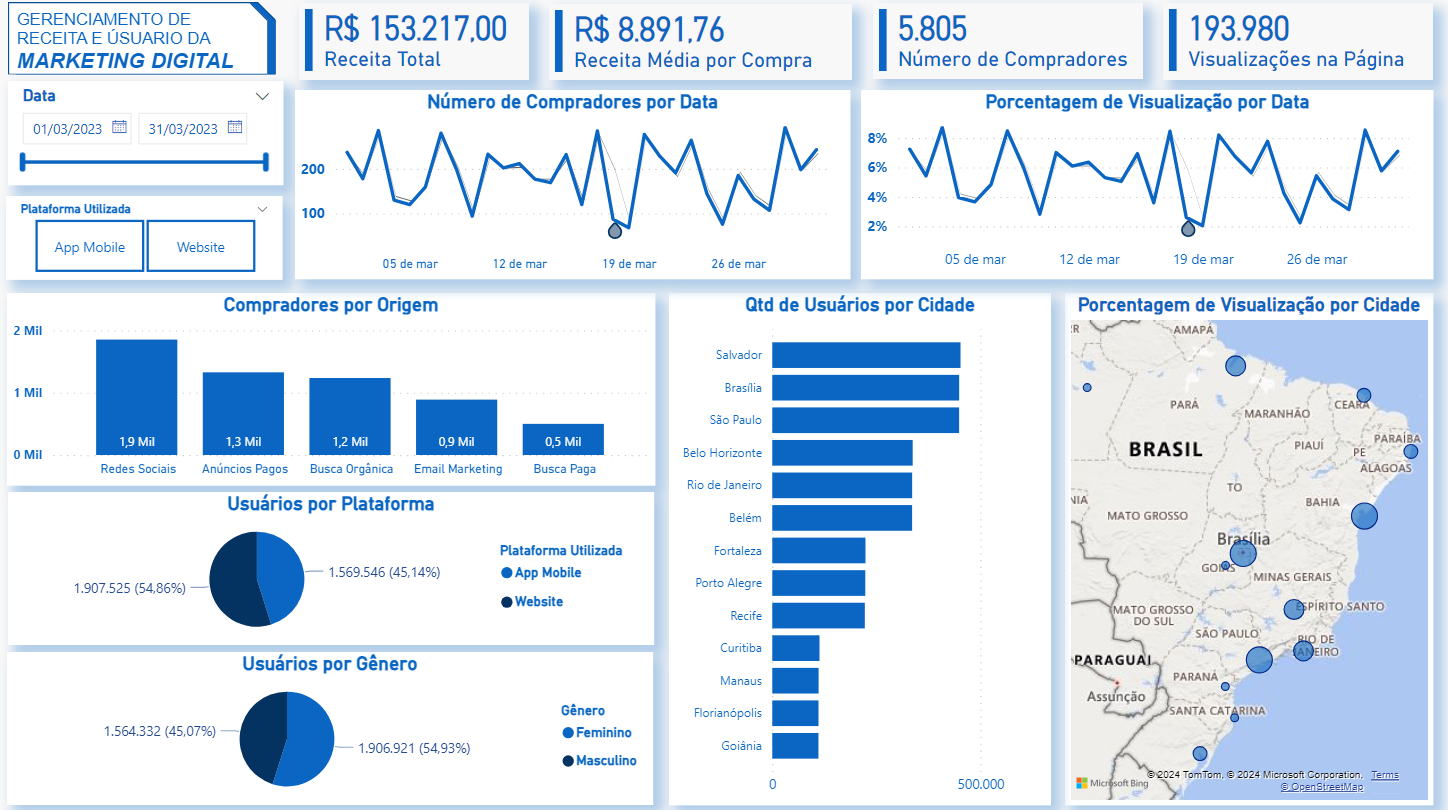

What the dashboard file says about the page in this screenshot:
{"tool":"powerbi","page":{"name":"Página 1","canvas":[1280,720],"ordinal":0},"visuals":[{"type":"shape","box":[16.3,7.4,229.5,64.2],"z":0},{"type":"shape","box":[8.4,7.4,229.5,64.2],"z":1000},{"type":"slicer","title":"Data","fields":{"Values":["Desafio PBI.Data"]},"box":[8.2,80.9,242.7,92.7],"z":2000},{"type":"multiRowCard","title":"PAINEL GERENCIAL AUTOMATIZADO","fields":{"Values":["Sum(Desafio PBI. Receita Total )"]},"box":[265.6,7.9,202.7,67.9],"z":3000},{"type":"map","title":"Porcentagem de Visualização por Cidade","fields":{"Category":["Desafio PBI.Cidade"],"Size":["Sum(Desafio PBI.% de visualização)"]},"box":[941.6,263.7,324.7,451.6],"z":4000},{"type":"slicer","fields":{"Values":["Desafio PBI.Plataforma Utilizada"]},"box":[7.4,178.4,243.7,73.7],"z":5000},{"type":"columnChart","title":"Compradores por Origem","fields":{"Category":["Desafio PBI.Origem"],"Y":["Sum(Desafio PBI.Número de Compradores)"]},"box":[7.9,264.2,571.6,129.9],"z":6000},{"type":"pieChart","title":"Usuários por Plataforma","fields":{"Series":["Desafio PBI.Plataforma Utilizada"],"Y":["Sum(Desafio PBI.Usuários Total)"]},"box":[8.5,403.9,571.3,149.6],"z":7000},{"type":"pieChart","title":"Usuários por Gênero","fields":{"Y":["Sum(Desafio PBI.Usuários Ativos)"],"Series":["Desafio PBI.Gênero"]},"box":[7.9,565.7,570.6,149.5],"z":8000},{"type":"barChart","title":"Qtd de Usuários por Cidade","fields":{"Category":["Desafio PBI.Cidade"],"Y":["Sum(Desafio PBI.Usuários Total)"]},"box":[591.8,263.7,337.5,451.6],"z":9000},{"type":"multiRowCard","title":"PAINEL GERENCIAL AUTOMATIZADO","fields":{"Values":["Sum(Desafio PBI. Receita Média por Compra )"]},"box":[486.4,9.1,267.3,67.3],"z":10000},{"type":"multiRowCard","title":"PAINEL GERENCIAL AUTOMATIZADO","fields":{"Values":["Sum(Desafio PBI.Número de Compradores)"]},"box":[771.8,8.2,238.2,67.3],"z":11000},{"type":"multiRowCard","title":"PAINEL GERENCIAL AUTOMATIZADO","fields":{"Values":["Sum(Desafio PBI.Visualizações na Página)"]},"box":[1028.1,7.9,238.1,67.9],"z":12000},{"type":"lineChart","fields":{"Y":["Sum(Desafio PBI.Número de Compradores)"],"Category":["Desafio PBI.Data"]},"box":[262.2,84.6,490,167.3],"z":13000},{"type":"lineChart","title":"Porcentagem de Visualização por Data","fields":{"Y":["Sum(Desafio PBI.% de visualização)"],"Category":["Desafio PBI.Data"]},"box":[760.9,84.5,505.5,167.3],"z":14000},{"type":"textbox","box":[11.8,8.2,226.4,76.4],"z":15000}]}

Visuals, with their boxes in screenshot pixels (x1, y1, x2, y2), scaled from the page's 1280x720 canvas onto the 1448x810 screenshot:
shape: l=18, t=8, r=278, b=81
shape: l=10, t=8, r=269, b=81
"Data" slicer: l=9, t=91, r=284, b=195
"PAINEL GERENCIAL AUTOMATIZADO" multiRowCard: l=300, t=9, r=530, b=85
"Porcentagem de Visualização por Cidade" map: l=1065, t=297, r=1433, b=805
slicer - Desafio PBI.Plataforma Utilizada: l=8, t=201, r=284, b=284
"Compradores por Origem" columnChart: l=9, t=297, r=656, b=443
"Usuários por Plataforma" pieChart: l=10, t=454, r=656, b=623
"Usuários por Gênero" pieChart: l=9, t=636, r=654, b=805
"Qtd de Usuários por Cidade" barChart: l=669, t=297, r=1051, b=805
"PAINEL GERENCIAL AUTOMATIZADO" multiRowCard: l=550, t=10, r=853, b=86
"PAINEL GERENCIAL AUTOMATIZADO" multiRowCard: l=873, t=9, r=1143, b=85
"PAINEL GERENCIAL AUTOMATIZADO" multiRowCard: l=1163, t=9, r=1432, b=85
lineChart - Sum(Desafio PBI.Número de Compradores) x Desafio PBI.Data: l=297, t=95, r=851, b=283
"Porcentagem de Visualização por Data" lineChart: l=861, t=95, r=1433, b=283
textbox: l=13, t=9, r=269, b=95
